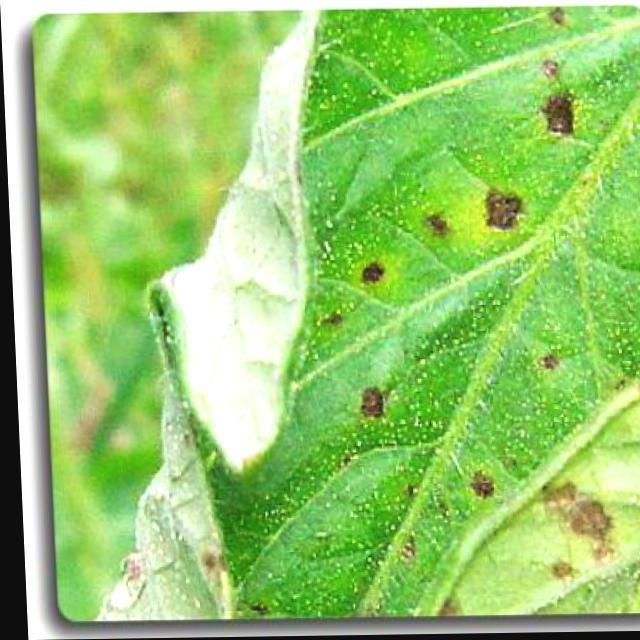Tomato Septoria spot leaf: (152, 8, 639, 606)
